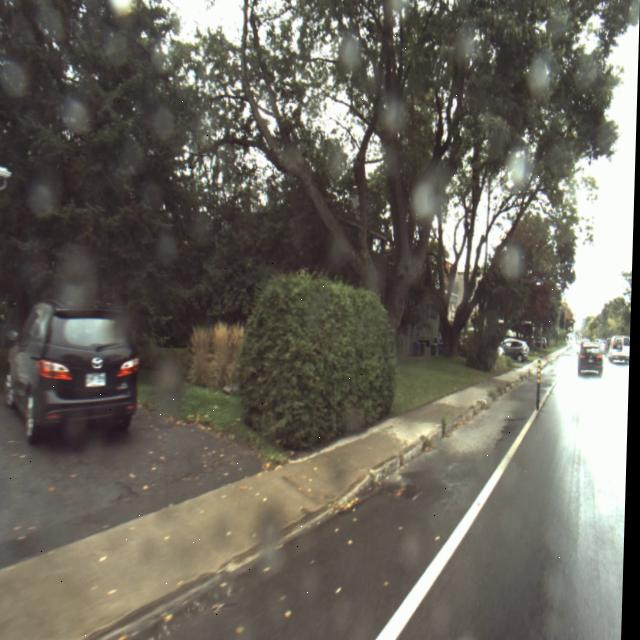car: (7, 300, 145, 440), (579, 344, 605, 378), (609, 335, 632, 367), (503, 337, 531, 363)
